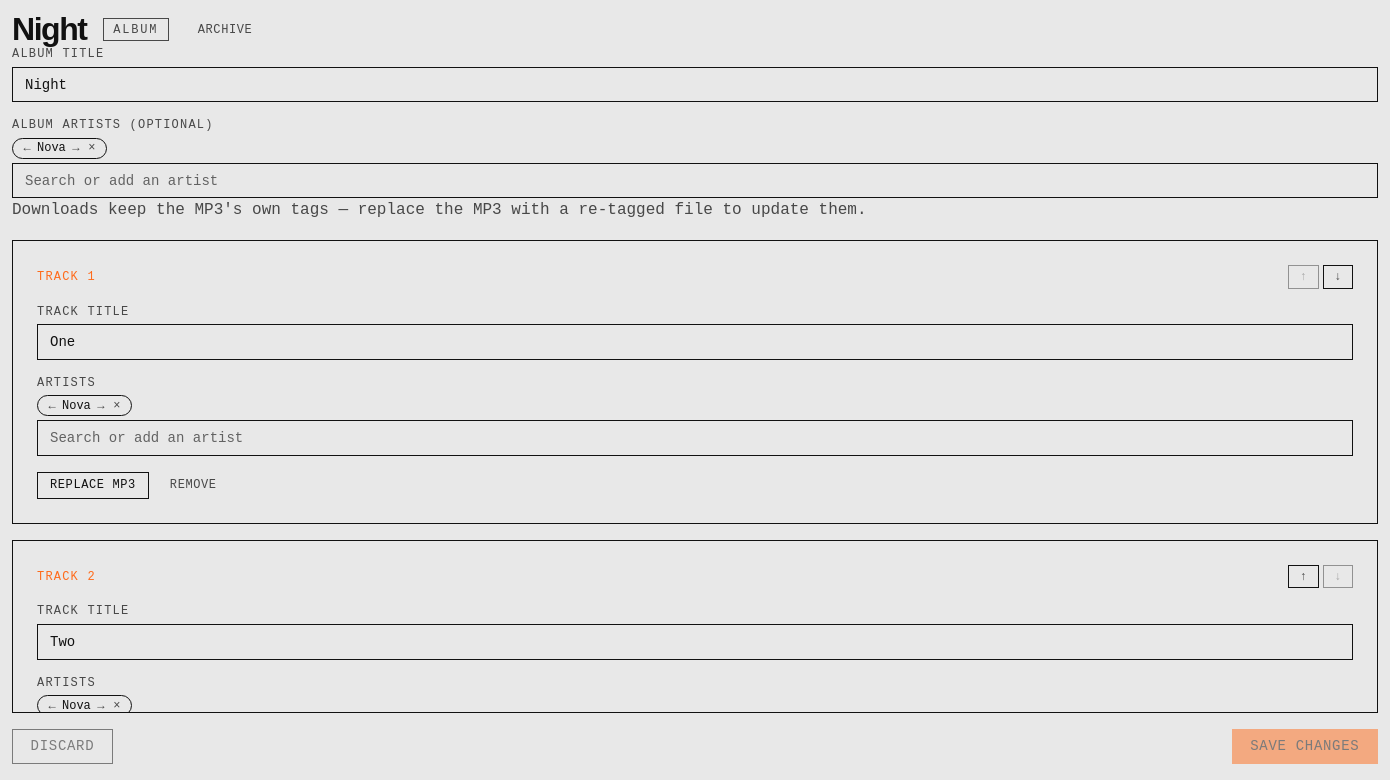
Test: EditReleaseForm › shows Saved. after a successful save and hides it on the next edit
The image size is (1390, 780).
Type "!" into the field labelled "Album title" at {"x": 695, "y": 85}, box [12,67,1378,102]
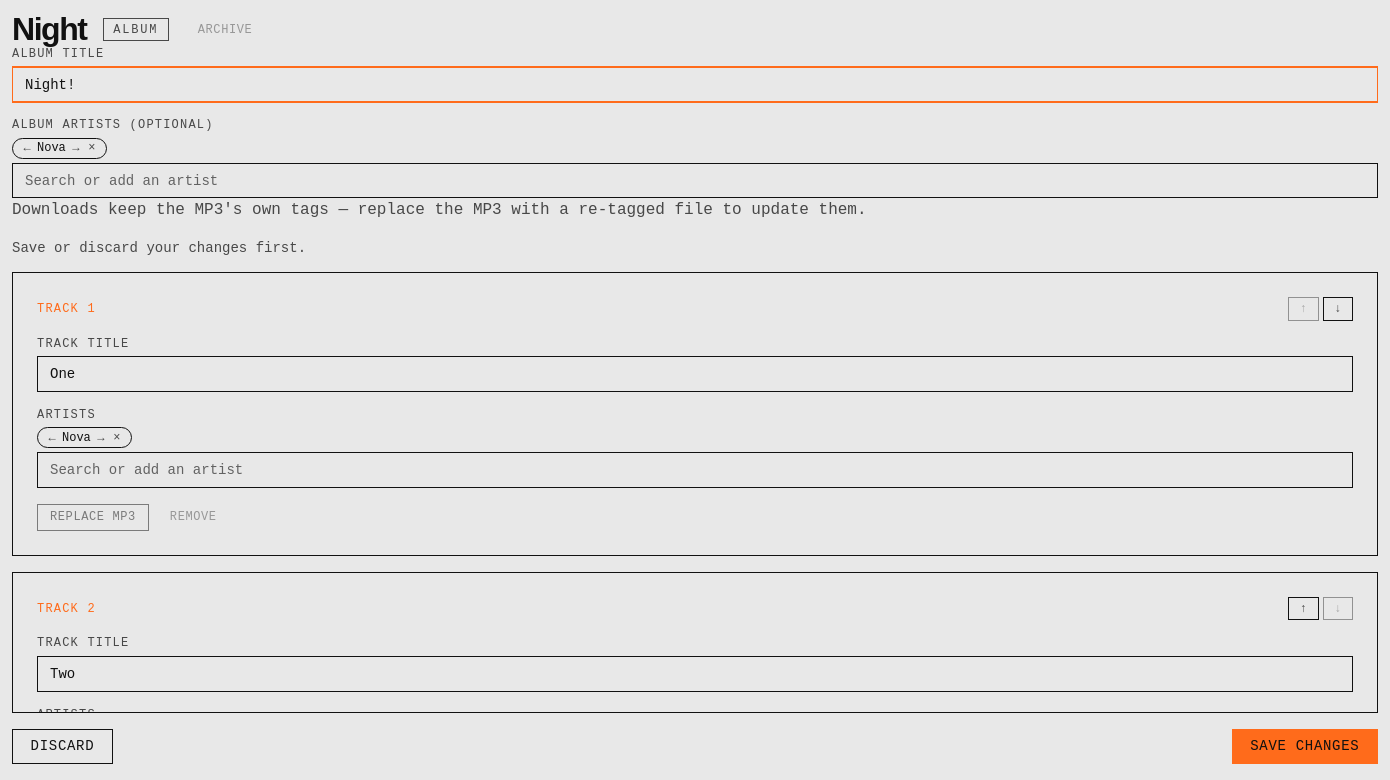
Click the button "Save changes" at {"x": 1305, "y": 746}, box [1232,728,1378,764]
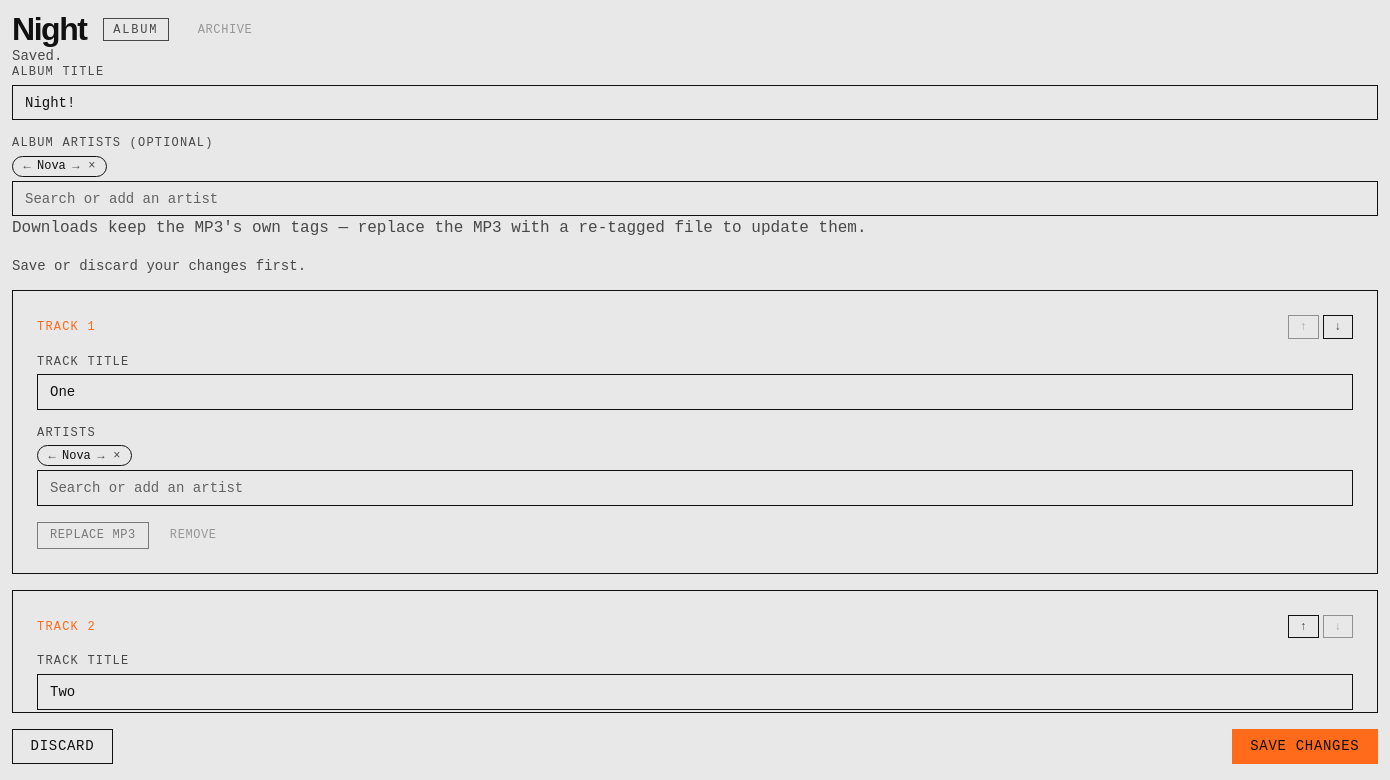
Check: the text "Saved." is shown, box [12,48,62,64]
Type "?" into the field labelled "Album title" at {"x": 695, "y": 103}, box [12,85,1378,120]
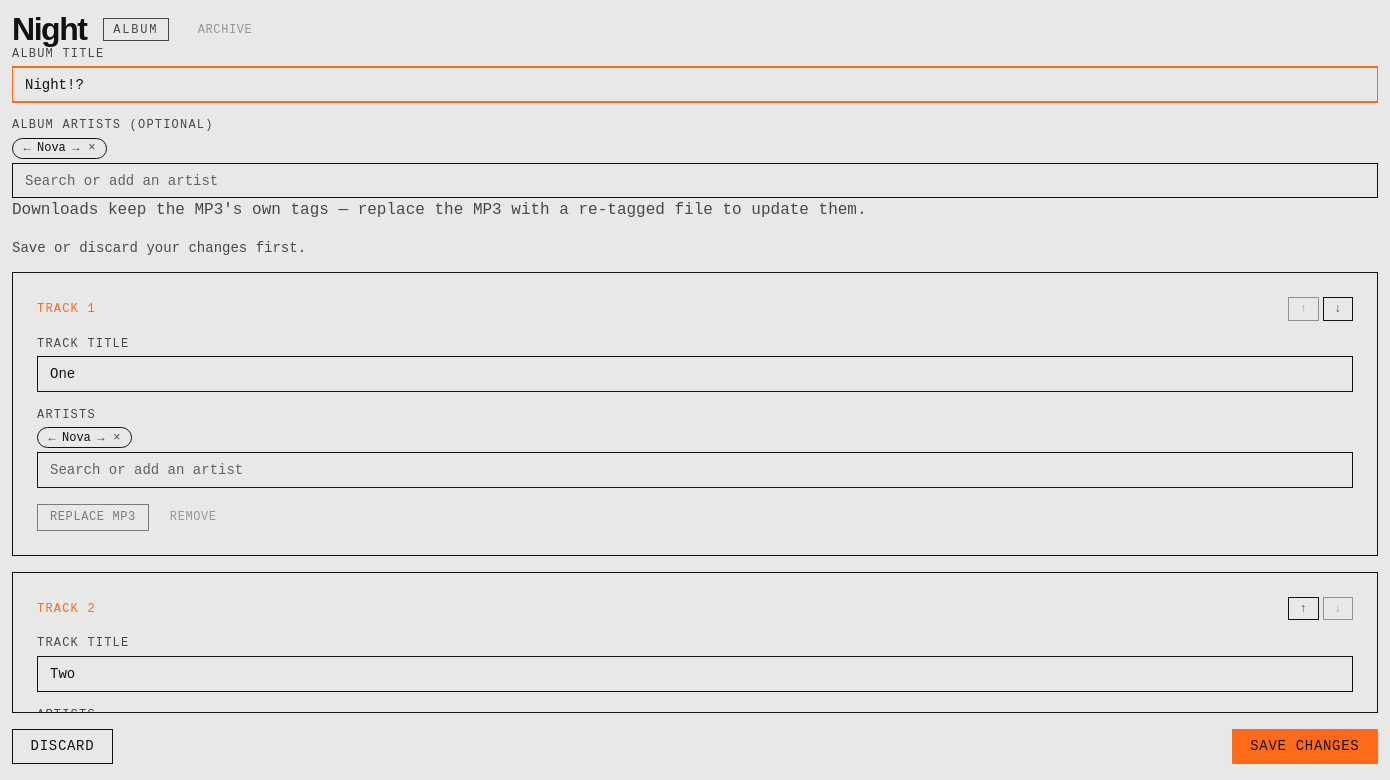
Check: the text "Saved." is gone
